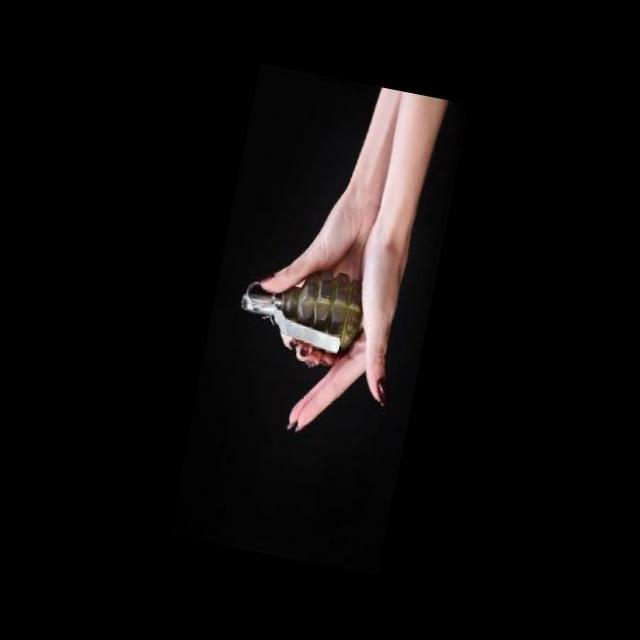grenade: (226, 244, 378, 372)
